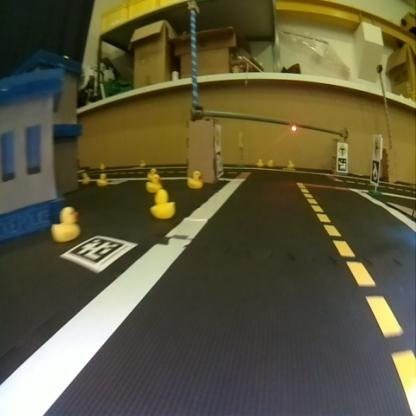Duckie: (51, 207, 80, 238), (150, 189, 172, 217), (146, 176, 161, 191), (186, 170, 202, 184), (148, 168, 156, 179), (98, 174, 104, 186), (267, 158, 273, 166), (257, 158, 263, 164), (287, 161, 291, 167)
Intersection sign: (372, 134, 380, 152), (337, 141, 347, 155)
QR code: (63, 235, 135, 267), (214, 153, 223, 175), (371, 159, 377, 184), (337, 157, 345, 170)
Traffic light: (290, 122, 296, 133)
